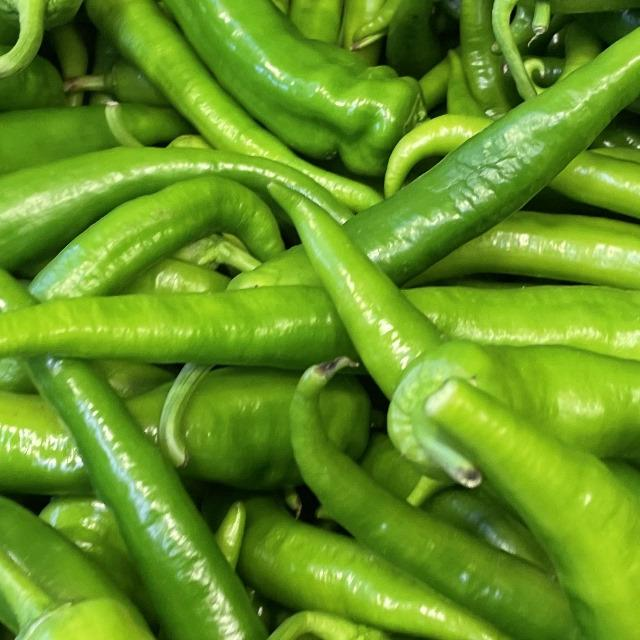chili_pepper: (127, 0, 435, 185)
